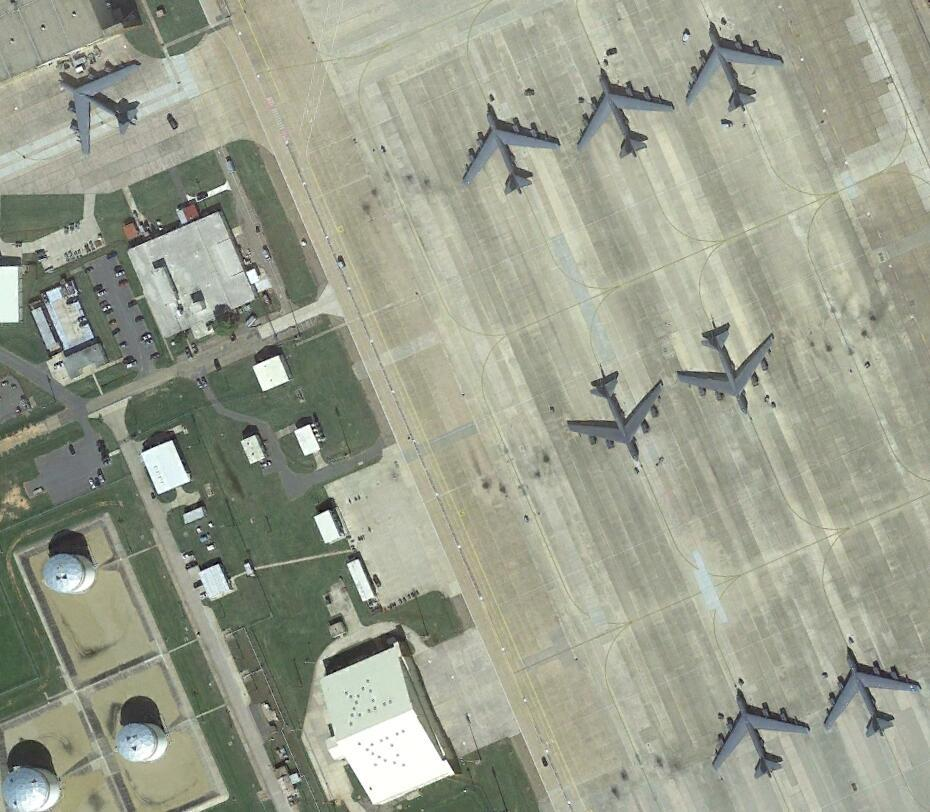A8: (454, 101, 562, 199), (707, 687, 811, 785), (565, 365, 666, 465), (572, 65, 675, 163), (682, 22, 787, 118), (819, 645, 924, 741), (677, 319, 777, 417), (52, 58, 151, 155)
